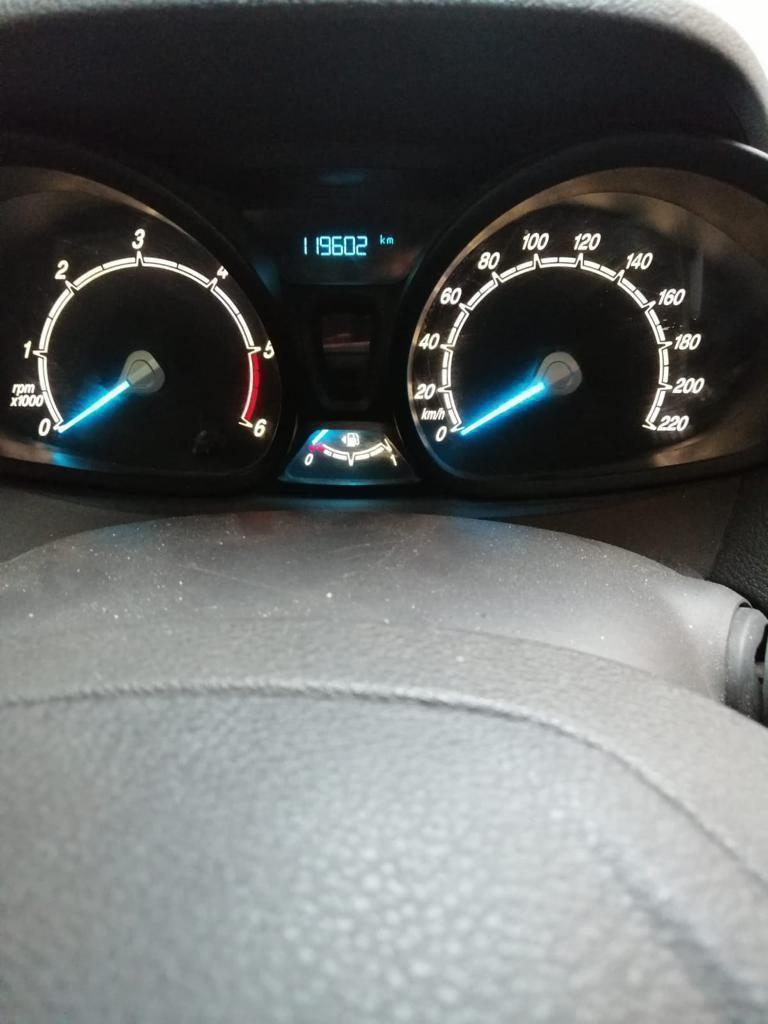0: (343, 235, 355, 256)
1: (300, 235, 309, 255), (312, 235, 319, 256)
2: (355, 234, 367, 256)
6: (331, 235, 343, 256)
9: (319, 235, 331, 256)
X: (385, 236, 394, 244), (379, 233, 385, 245)
odometer: (257, 219, 428, 289)
